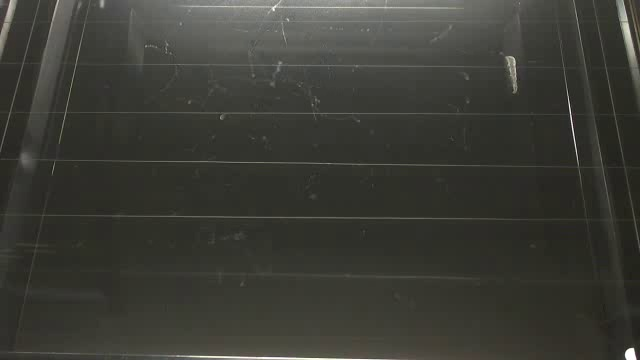Alfa: (500, 55, 522, 95)
